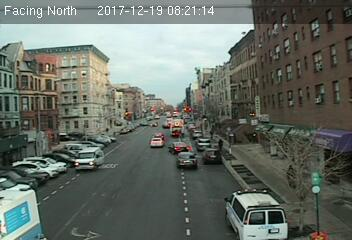car: (176, 150, 199, 169), (168, 141, 189, 155), (203, 148, 220, 162), (148, 136, 164, 149)
pedestrian: (283, 164, 300, 195)
police: (224, 188, 291, 240)
truck: (74, 146, 104, 173)
